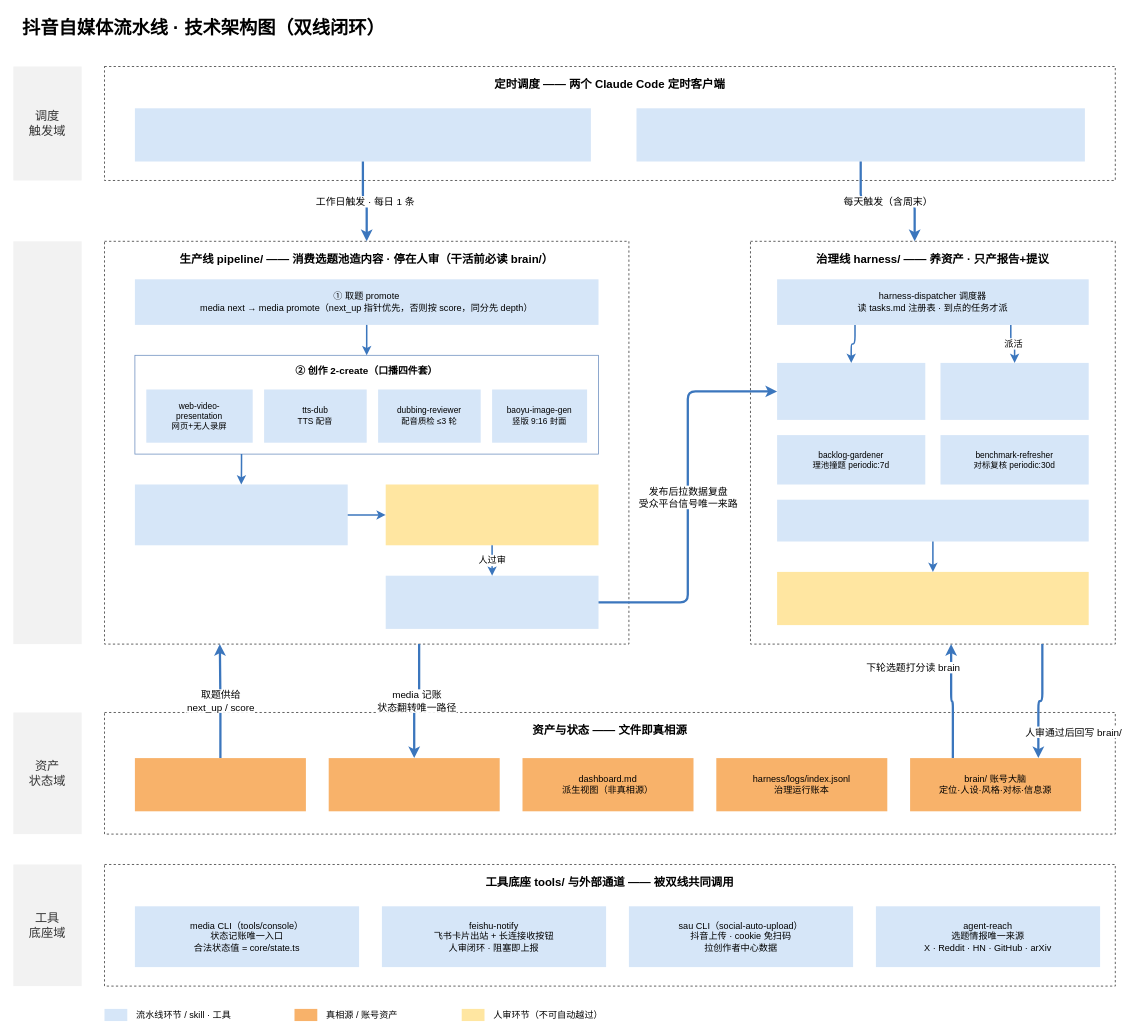
Some shapes in this 1135 by 1035 pixel diagram are drawn without their labels. Here are the shapes that lost their labels. From the top down, the centre of each, then its label:
the point at 363,134: 生产线定时任务（工作日 · 后跑） 读 pipeline/daily-run.md 执行 · 每日 1 条（深度:流量 ≈ 6:4）
the point at 860,134: 治理线定时任务（每天 · 含周末 · 先跑） 喂 /harness-dispatcher 调度到点任务
the point at 851,391: douyin-retro 复盘 发布后 24h/72h/7d 漏斗归因
the point at 1014,391: douyin-ideate 养池 periodic:2d agent-reach 抓料打分
the point at 47,442: 双线 业务域
the point at 241,514: ③ 出审 3-review media flip review 记账 feishu-notify 推审核卡
the point at 491,514: 人审闸口（飞书按钮闭环） 审核卡通过 → 确认发布卡二次确认 工作日全自动到此为止
the point at 932,520: account-audit 自审元层 · periodic:30d（按限幅表回调治理线自身配置）
the point at 491,602: ④ 发布 4-publish douyin-publish（sau CLI · dry-run 铁律） → media publish-done 唯一记账
the point at 932,598: 产出：执行报告 + 变更提议 → 人审 铁律：不自动改 brain/（入池与规则化清扫例外，视同记账）
the point at 220,784: backlog.yaml 选题池真相源
the point at 413,784: content/*/meta.yaml 每条内容状态真相源
